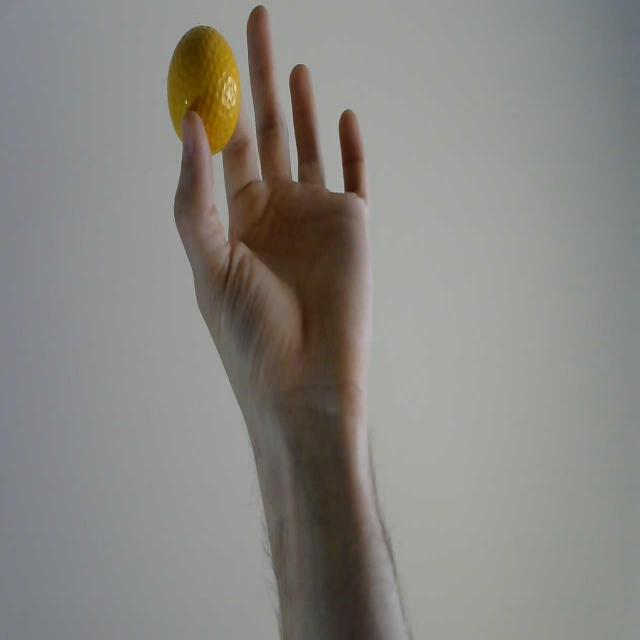golfball: (164, 20, 242, 162)
